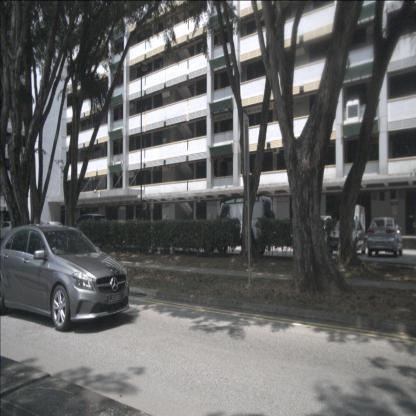vehicle-car: (0, 225, 130, 331), (196, 198, 273, 255), (326, 218, 367, 258), (67, 214, 111, 249), (366, 216, 402, 257), (0, 221, 23, 244)
